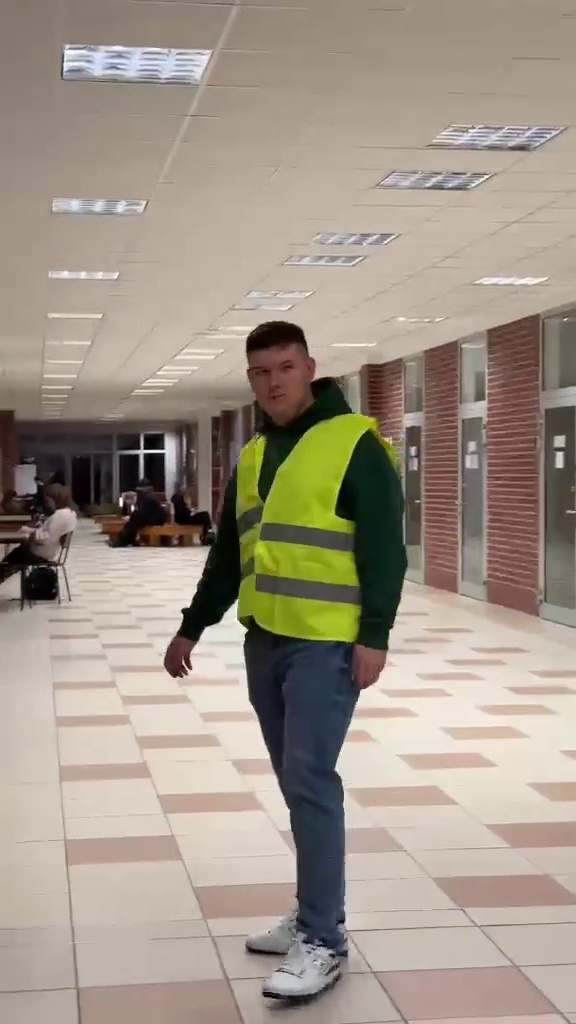vest: (171, 313, 417, 1003)
